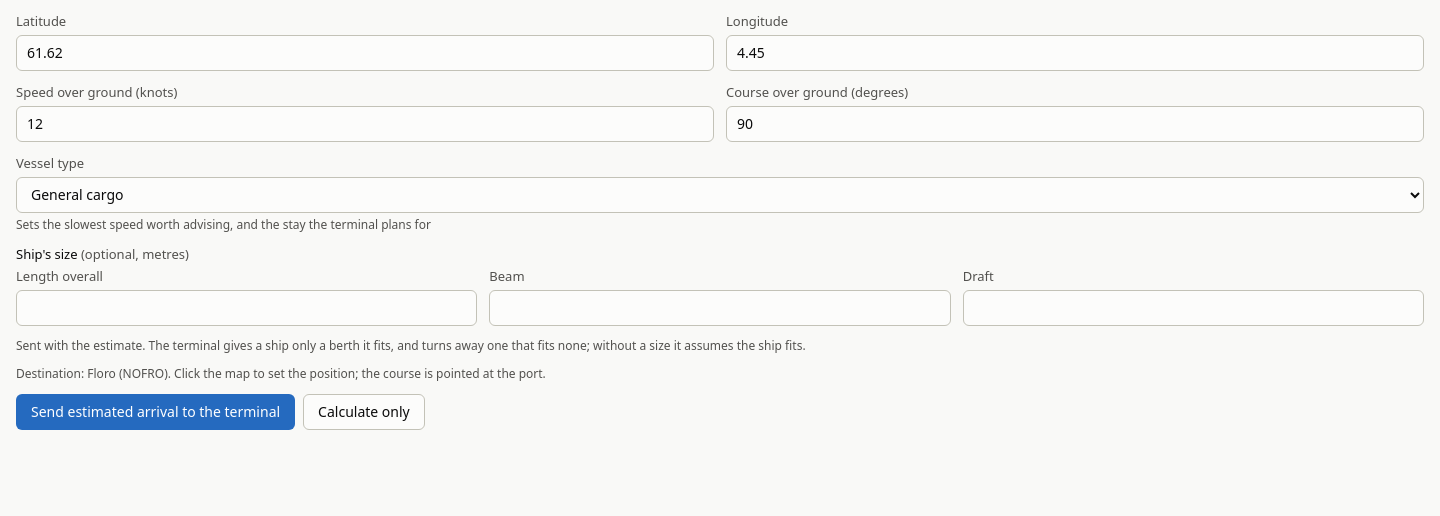
Scenario: PositionForm › only calculates when asked to: the model is asked and nothing is sent
Click the button "Calculate only" at (364, 412), box [303,394,425,430]
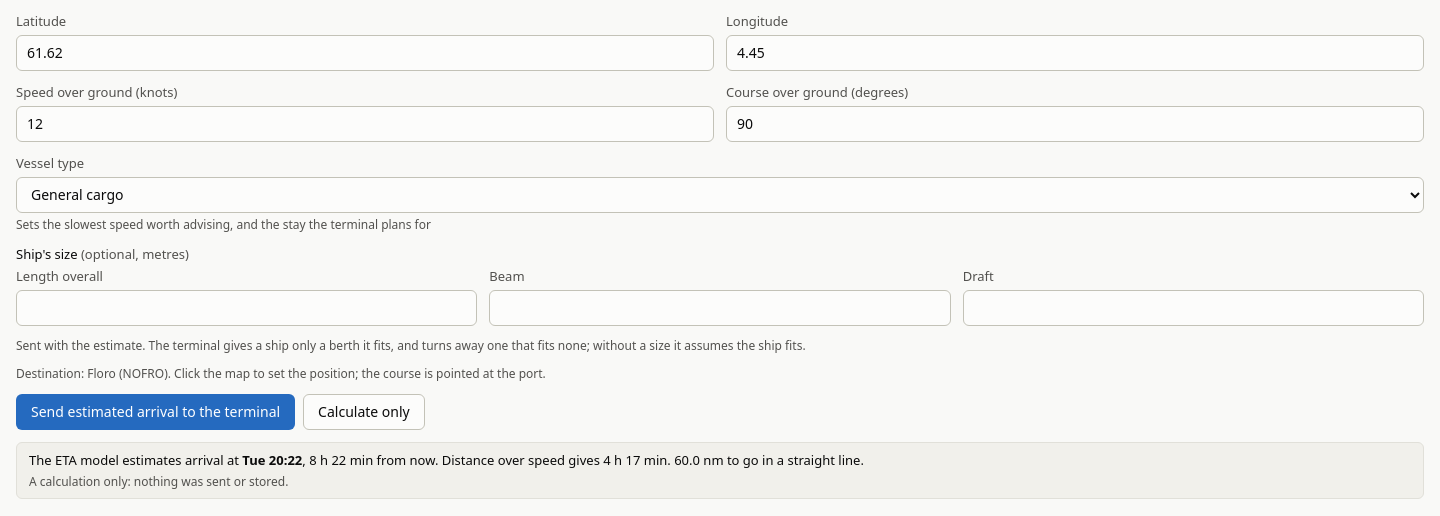
Expected: the text "A calculation only: nothing was sent or stored." is shown, [29,473,288,490]
